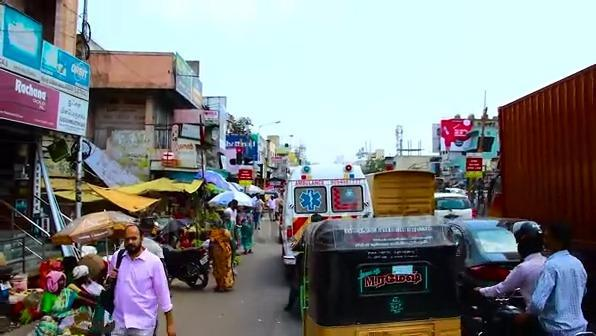Ambulance: (298, 188, 323, 212)
